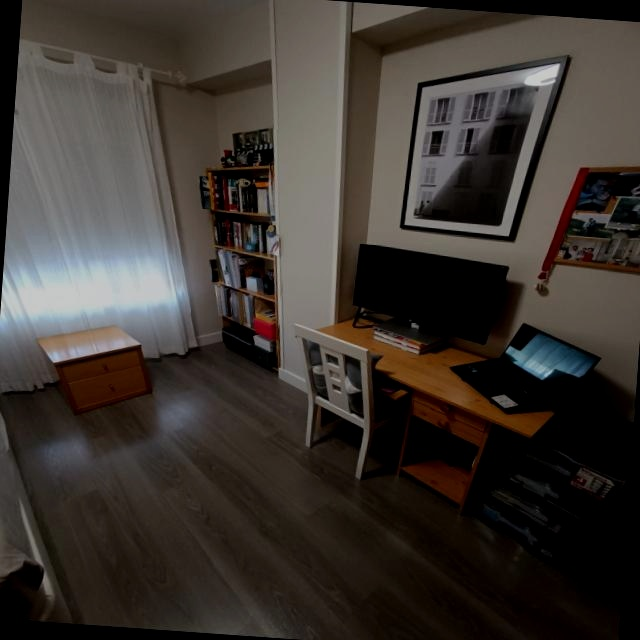bookshelf: (200, 129, 282, 369)
chair: (293, 324, 407, 480)
laptop: (449, 323, 601, 414)
monitor: (353, 244, 508, 336)
nighttable: (38, 326, 150, 414)
stove: (318, 320, 554, 512)
